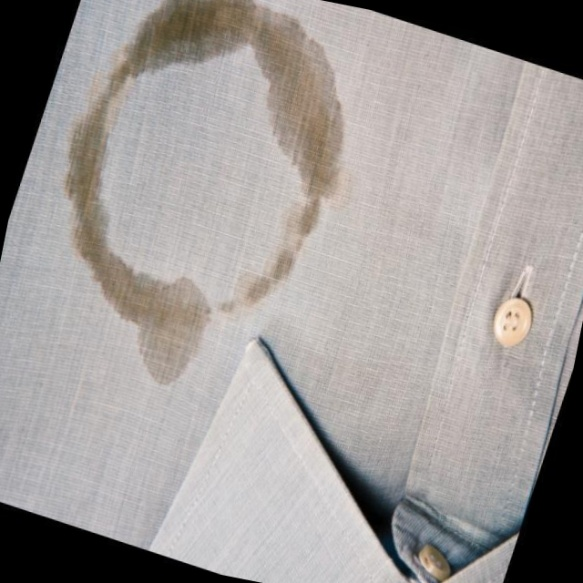coffee: (225, 0, 382, 198), (88, 256, 222, 379), (44, 107, 133, 271), (141, 0, 256, 80)
